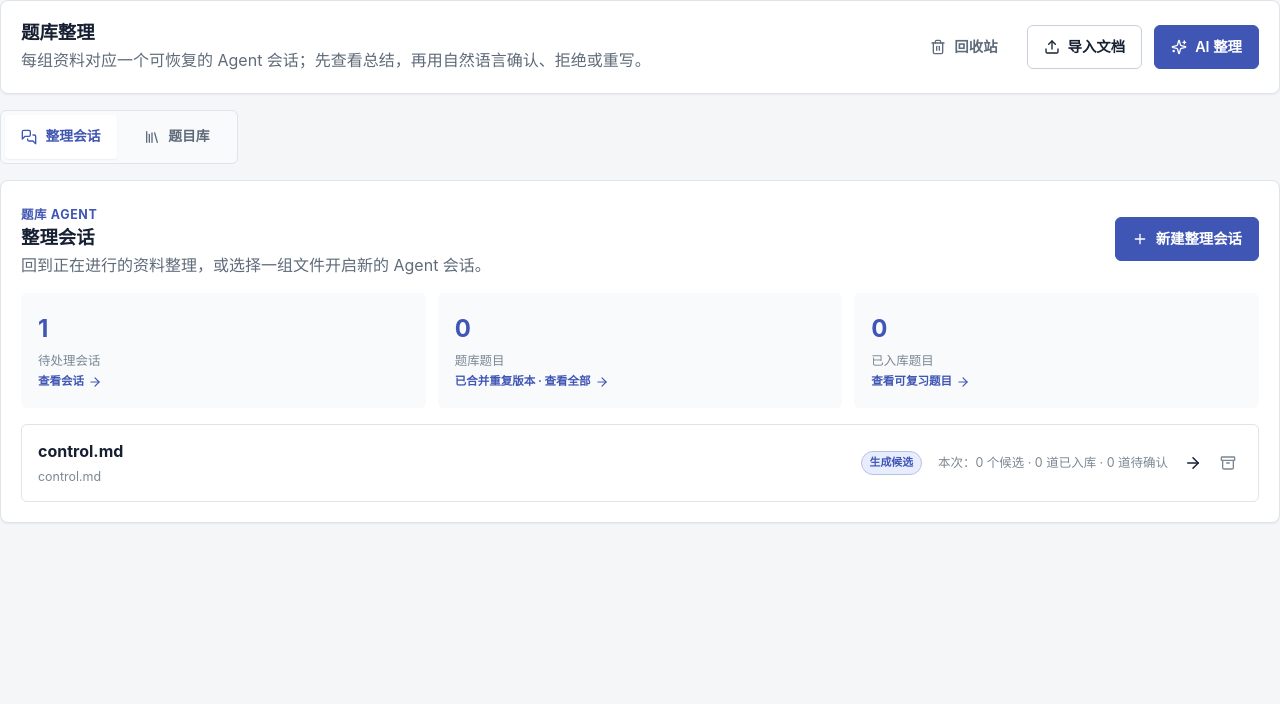
it: QuestionCatalog › shows safe recovery guidance when pause fails
Click the button "control.md control.md 生成候选 本次：0 个候选 · 0 道已入库 · 0 道待确认" at point(81, 451), box [22,425,1258,501]
(page scrolled)
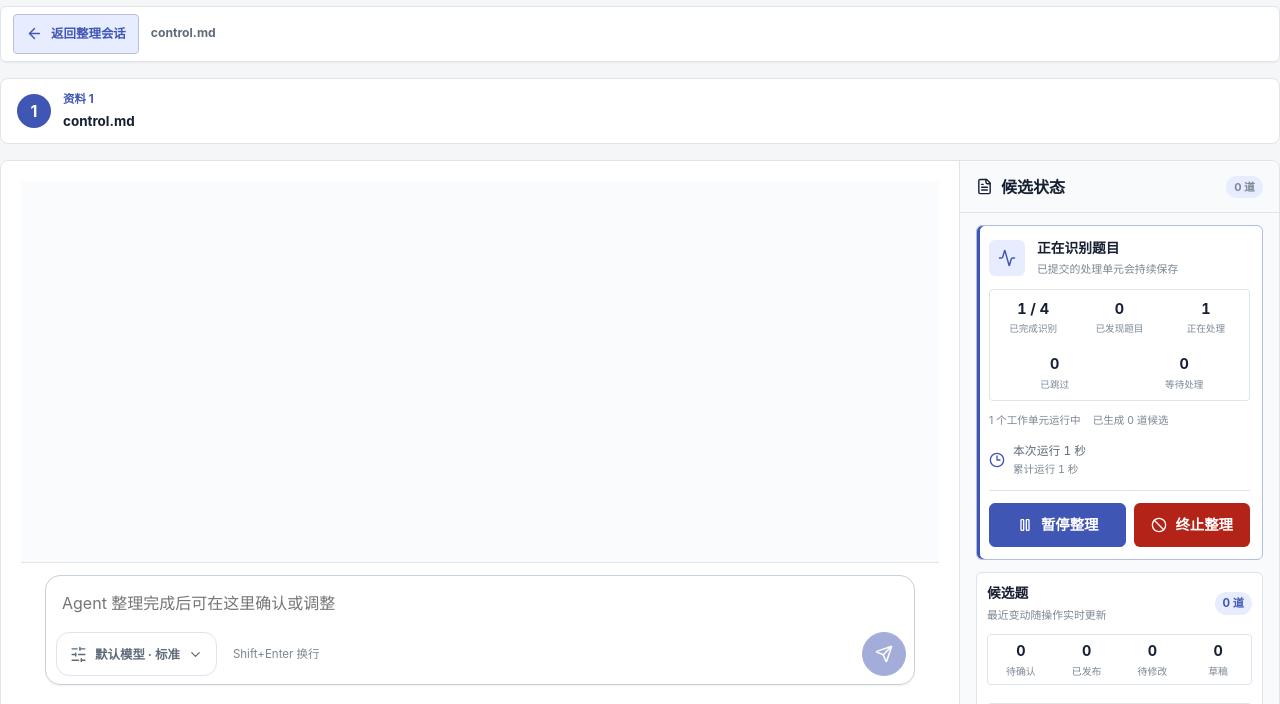
Click the button "暂停整理" at point(1058, 526), box [989,504,1126,548]
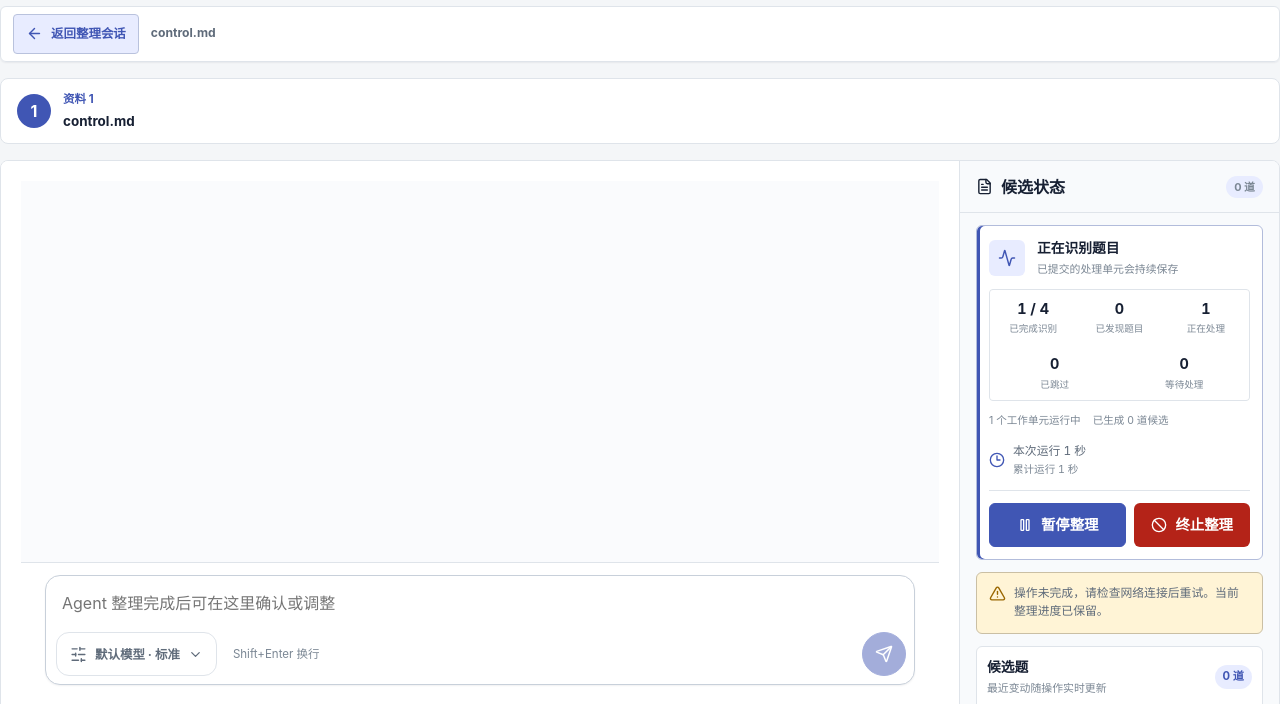
expect the message named "整理控制提示" does not show "SQLITE secret table leaked": met, box [976,572,1263,634]
expect the message named "整理控制提示" reads "操作未完成，请检查网络连接后重试。当前整理进度已保留。": met, box [1014,586,1239,618]
